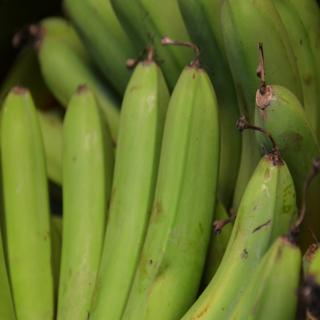Banana: (0, 0, 320, 320), (48, 70, 112, 320)
